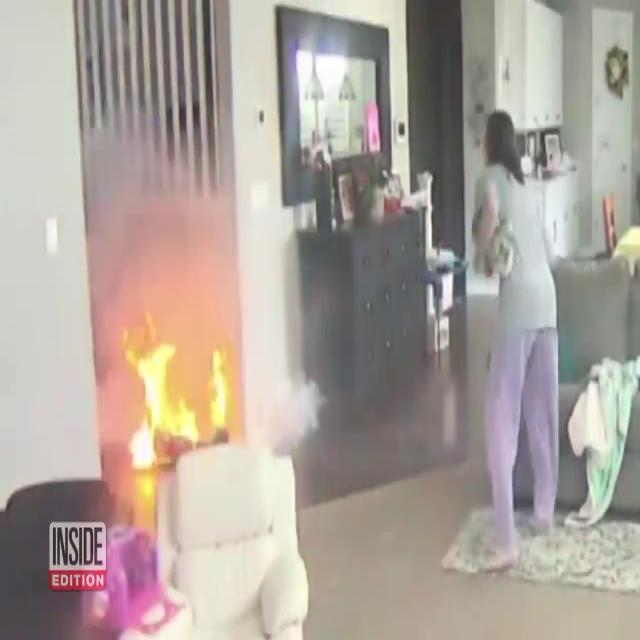Fire: (118, 308, 236, 482)
Smoke: (80, 92, 242, 338)
